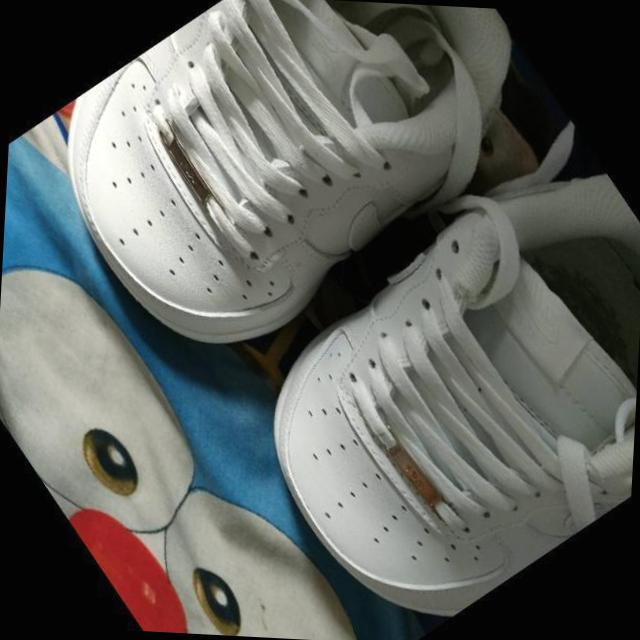nike_fake_airforce: (6, 0, 588, 417), (193, 107, 640, 640)
